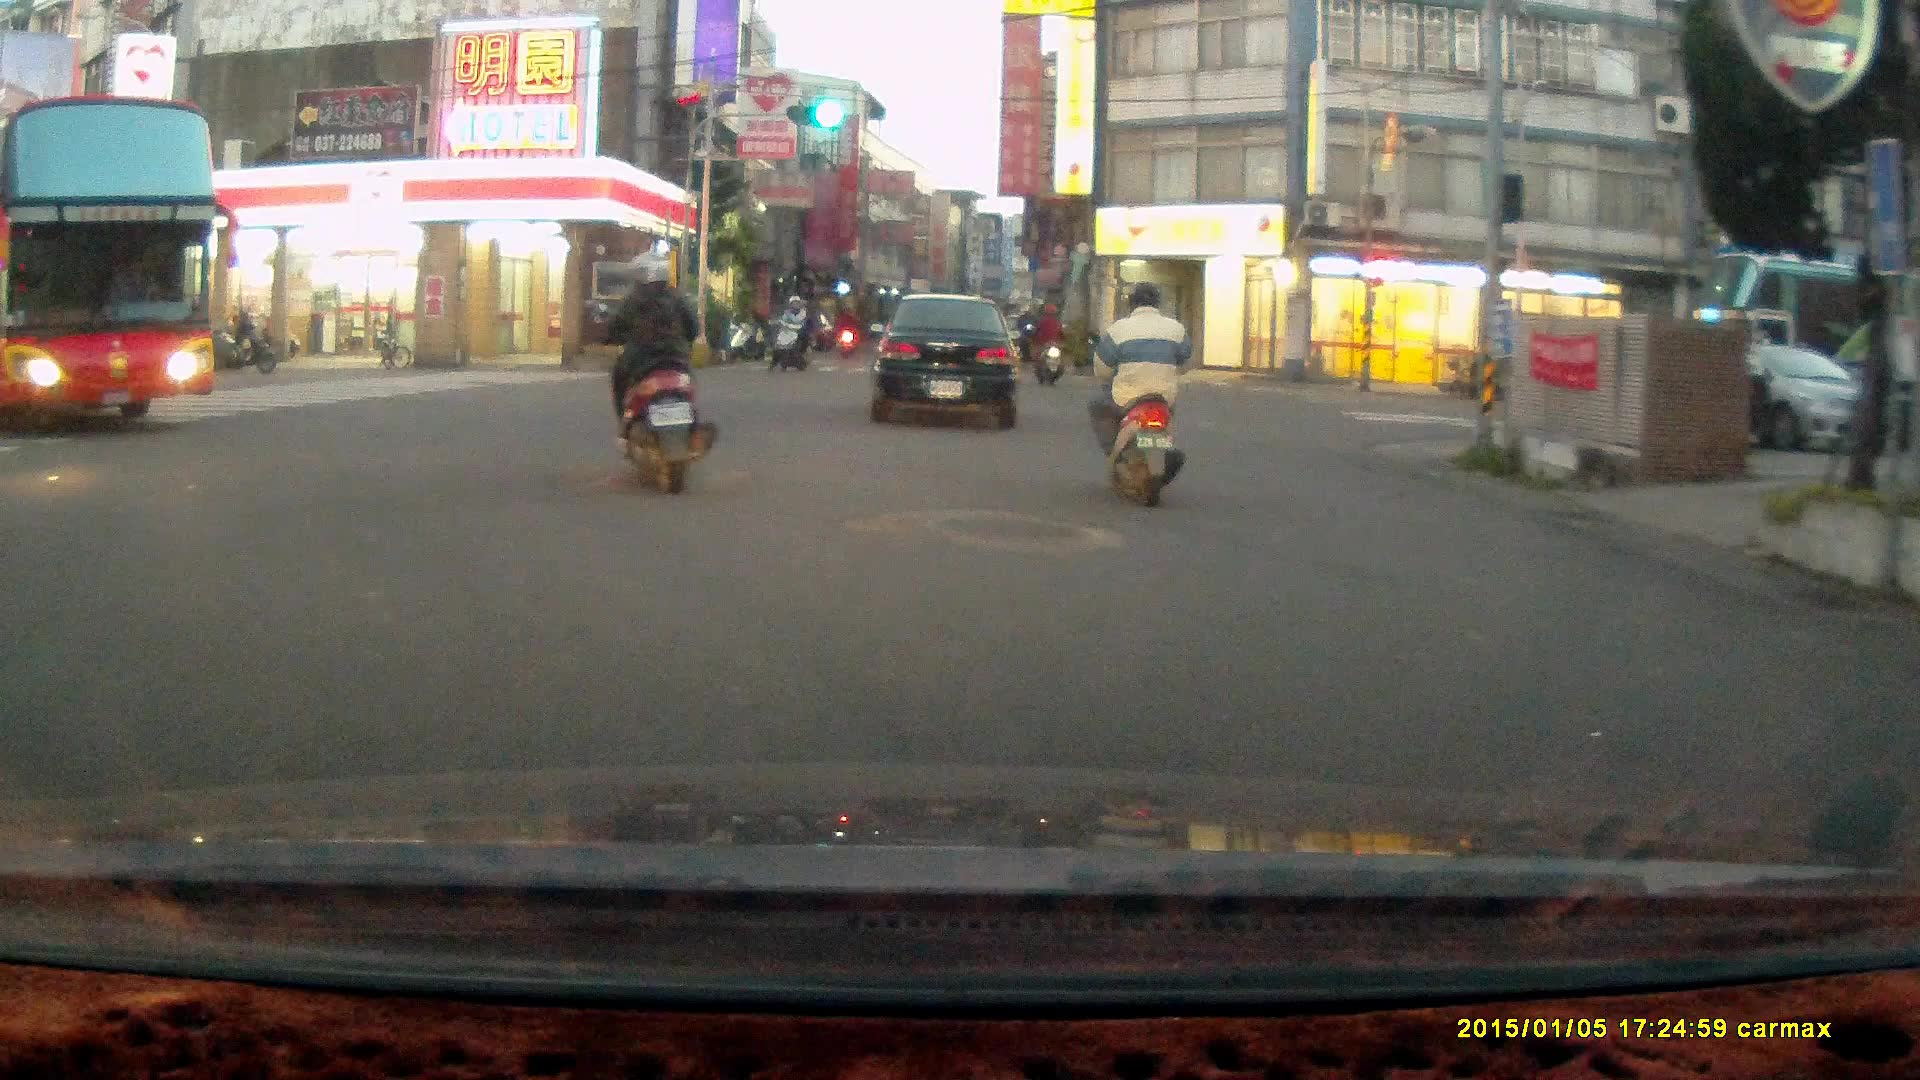rider: (589, 250, 719, 493), (1082, 280, 1197, 510), (1028, 296, 1067, 388), (766, 292, 810, 371)
vehicle: (1, 95, 221, 426), (1620, 338, 1900, 458), (877, 290, 1022, 430)
